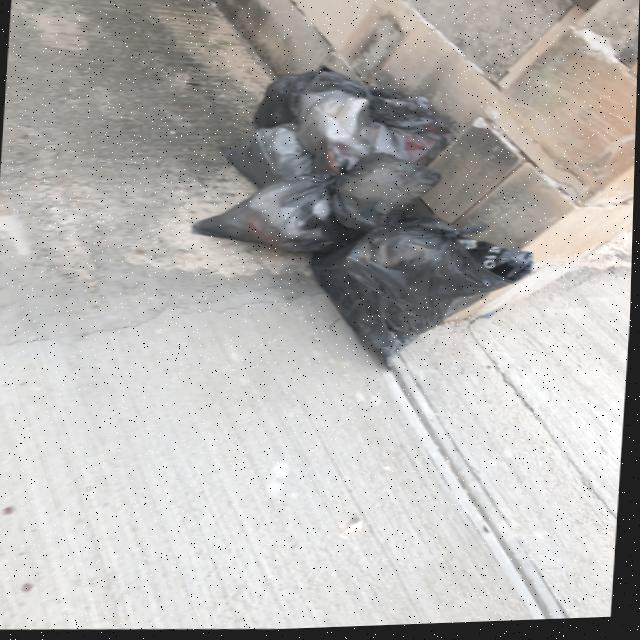Mixed Waste -Black Bag-: (303, 214, 542, 382), (193, 173, 352, 260), (296, 91, 455, 178), (332, 156, 447, 237), (256, 74, 378, 135), (226, 122, 320, 190)
